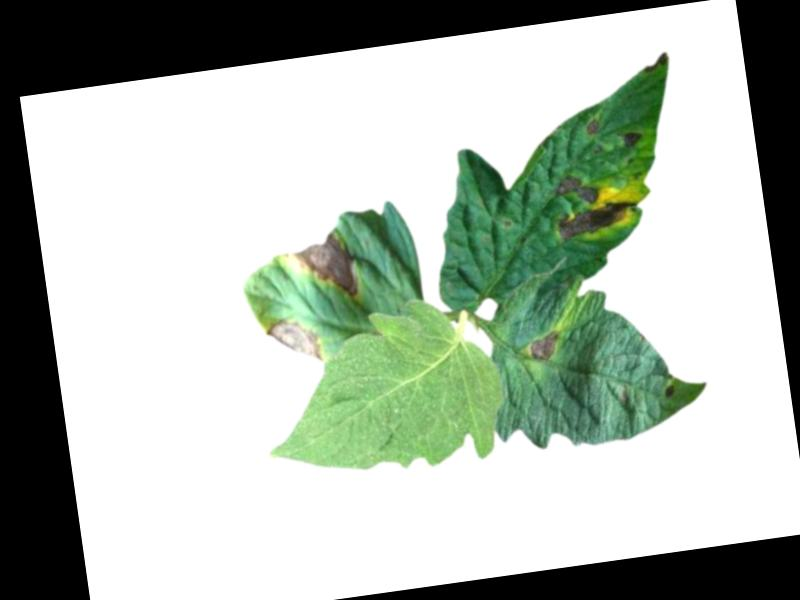Early_blight: (550, 165, 642, 241), (283, 226, 358, 303), (263, 315, 322, 368), (525, 328, 559, 364), (617, 129, 644, 148), (584, 116, 600, 135), (660, 381, 675, 397)
healthy: (252, 287, 514, 489)
